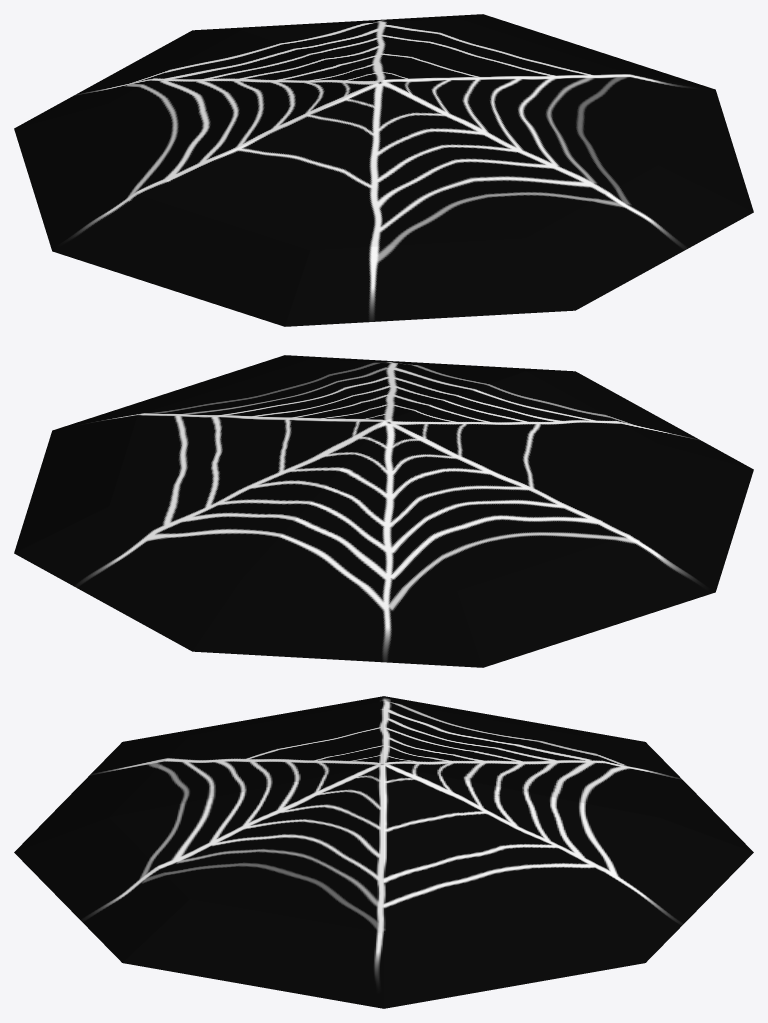
The model's file is Spiderweb_01.fbx.
The picture shows the model from 3 angles, top to bottom: view 1: azimuth 30°, elevation 25°; view 2: azimuth 150°, elevation 25°; view 3: azimuth 270°, elevation 25°; orthographic projection. The views are drawn at different scales.
Parts seen in each view (by area): view 1: Spiderweb_01; view 2: Spiderweb_01; view 3: Spiderweb_01.
Boxes of the visible parts, <box> form: Spiderweb_01: <box>14,14,753,326</box>; Spiderweb_01: <box>14,355,753,667</box>; Spiderweb_01: <box>14,696,753,1008</box>.
Bounding box in the file's own units: 0.9708 × 0.1264 × 0.9708.
